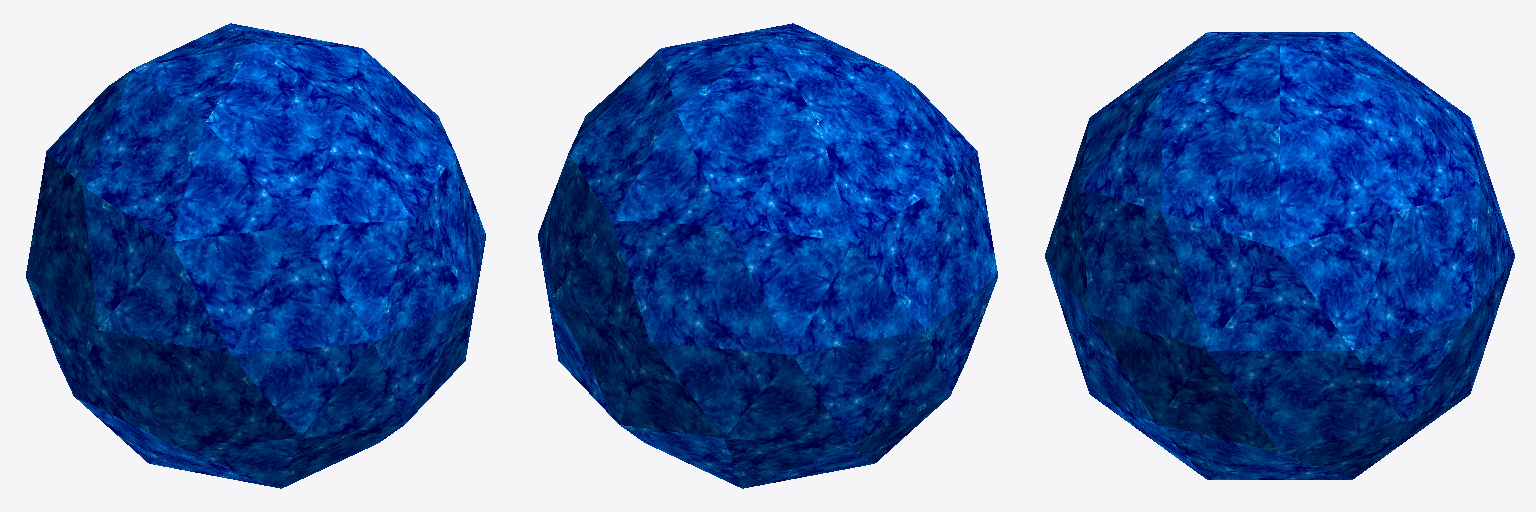
3 renders of one model, left to right at view 1: azimuth 30°, elevation 25°; view 2: azimuth 150°, elevation 25°; view 3: azimuth 270°, elevation 25°, orthographic.
Visible parts, largest first — view 1: Icosphere; view 2: Icosphere; view 3: Icosphere.
Boxes of the visible parts, <box> form: Icosphere: <box>26,23,485,488</box>; Icosphere: <box>538,23,997,488</box>; Icosphere: <box>1045,32,1514,479</box>.
Bounding box in the file's own units: 1.9 × 2 × 2.
Materials: 1 (1 with a texture image).